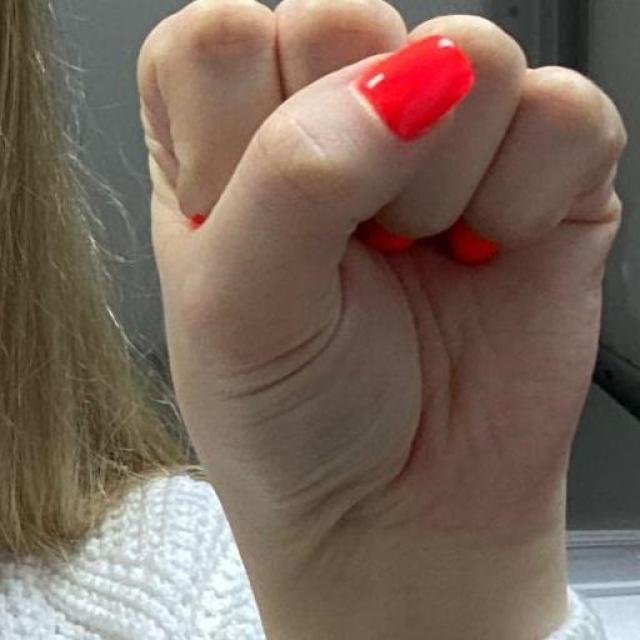hand: (133, 0, 628, 639)
